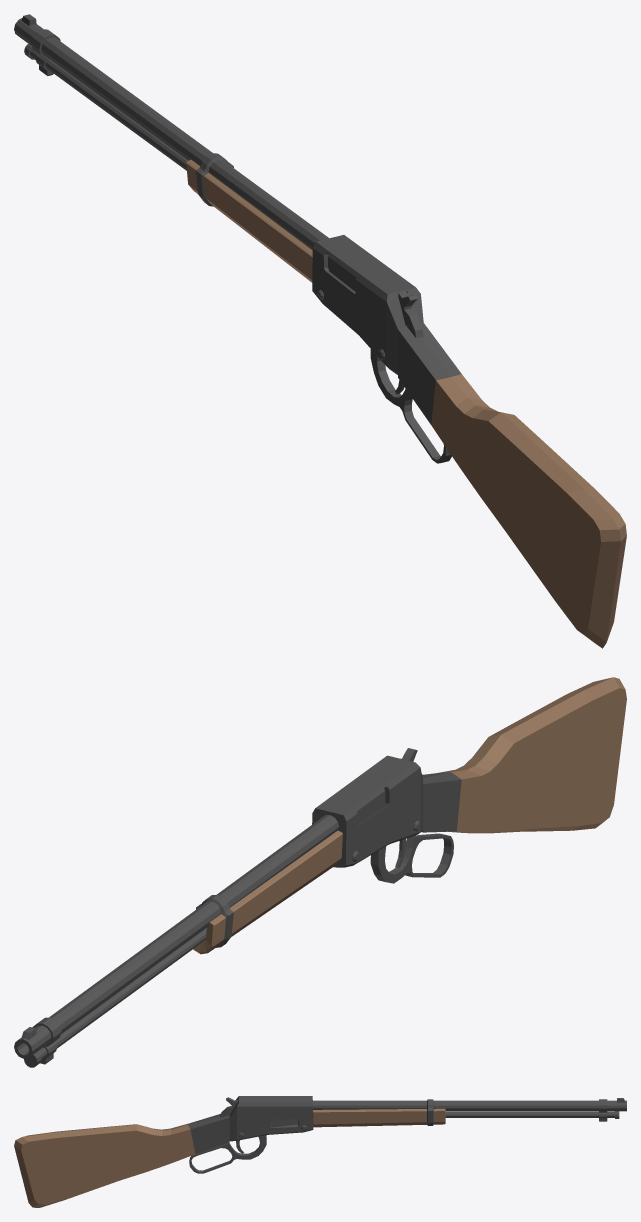
Rendered from Repeater.fbx.
3 renders of one model, top to bottom at view 1: azimuth 30°, elevation 25°; view 2: azimuth 150°, elevation 25°; view 3: azimuth 270°, elevation 25°, orthographic. The views are drawn at different scales.
Parts seen in each view (by area): view 1: Repeater; view 2: Repeater; view 3: Repeater.
Boxes of the visible parts, x1,y1,x2,y2 form: Repeater: (14, 14, 626, 648); Repeater: (14, 677, 626, 1067); Repeater: (14, 1096, 626, 1207).
Bounding box in the file's own units: 4.09 × 21.71 × 110.
